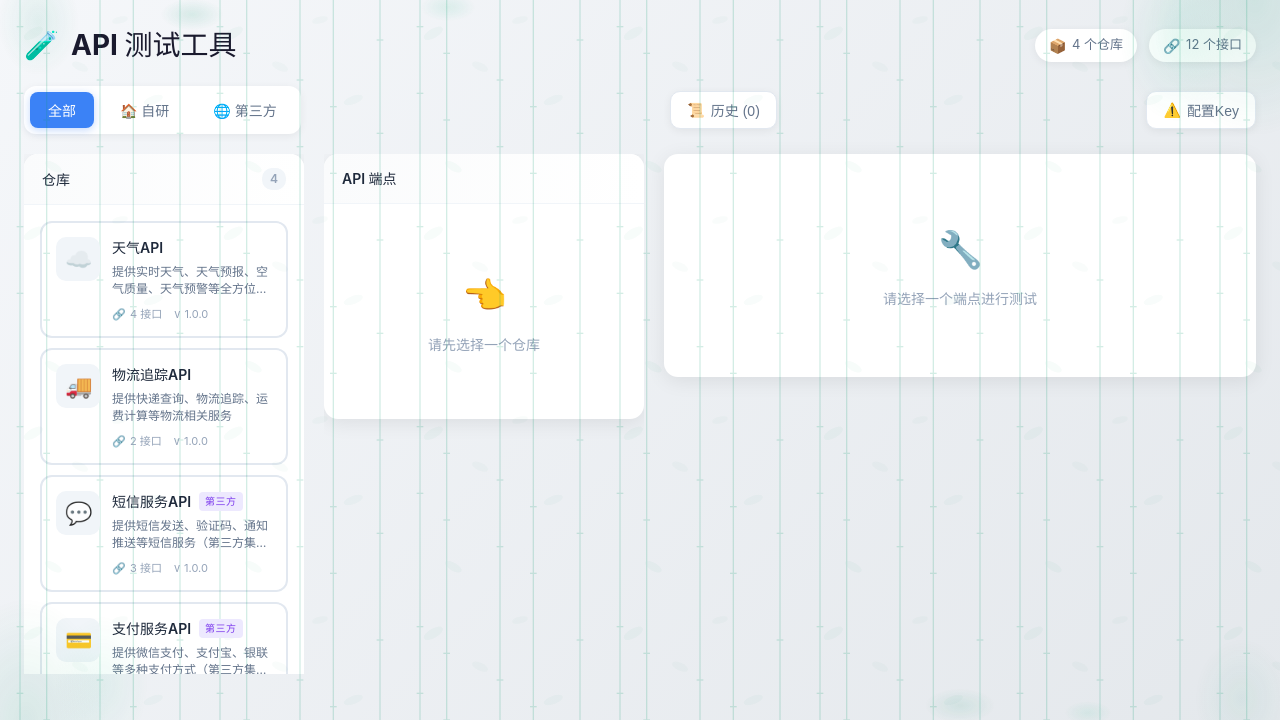
Test: ApiTester 渲染与筛选 › TC-FE-TESTER-002: 分类切换只展示对应来源的仓库
Expected: the heading "天气API" is shown, 112,237 -> 163,258
Click the button "🏠 自研": (145, 110) 102,92 -> 187,128
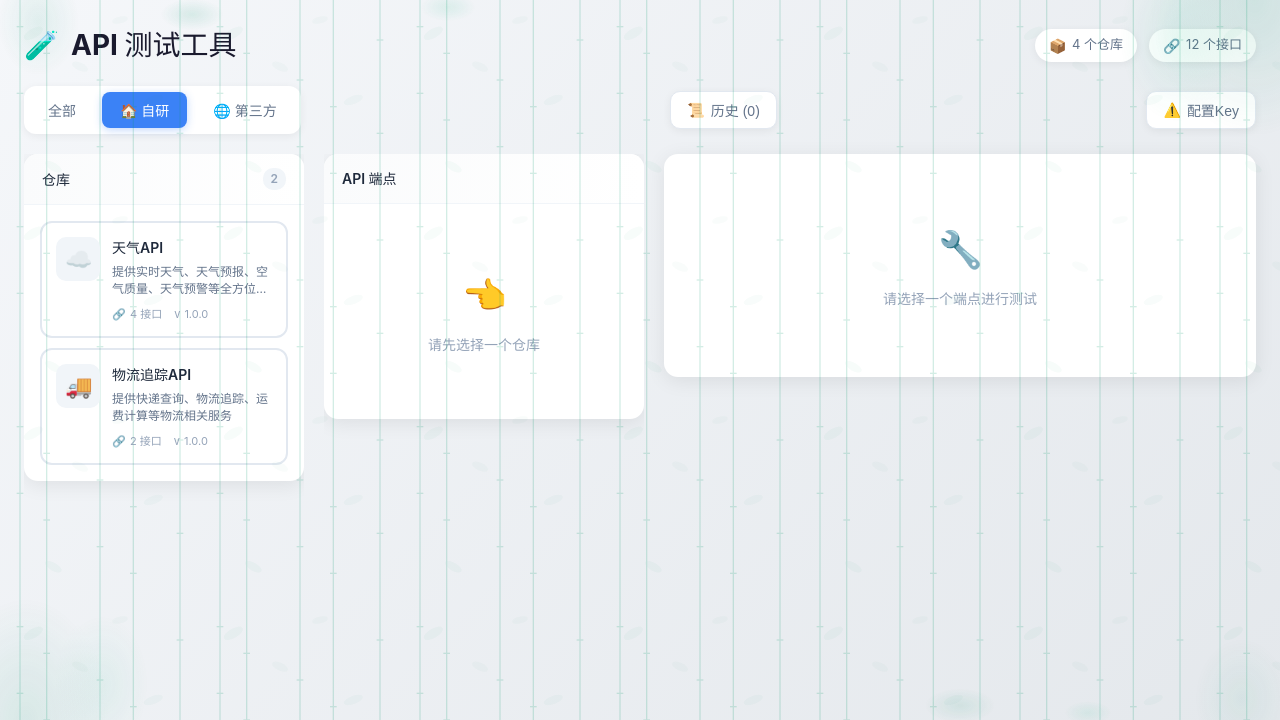
Expected: the heading "天气API" is shown, 112,237 -> 163,258
Expected: the heading "短信服务API" is gone
Note:  切到「第三方」
Click the button "🌐 第三方": (245, 110) 195,92 -> 295,128
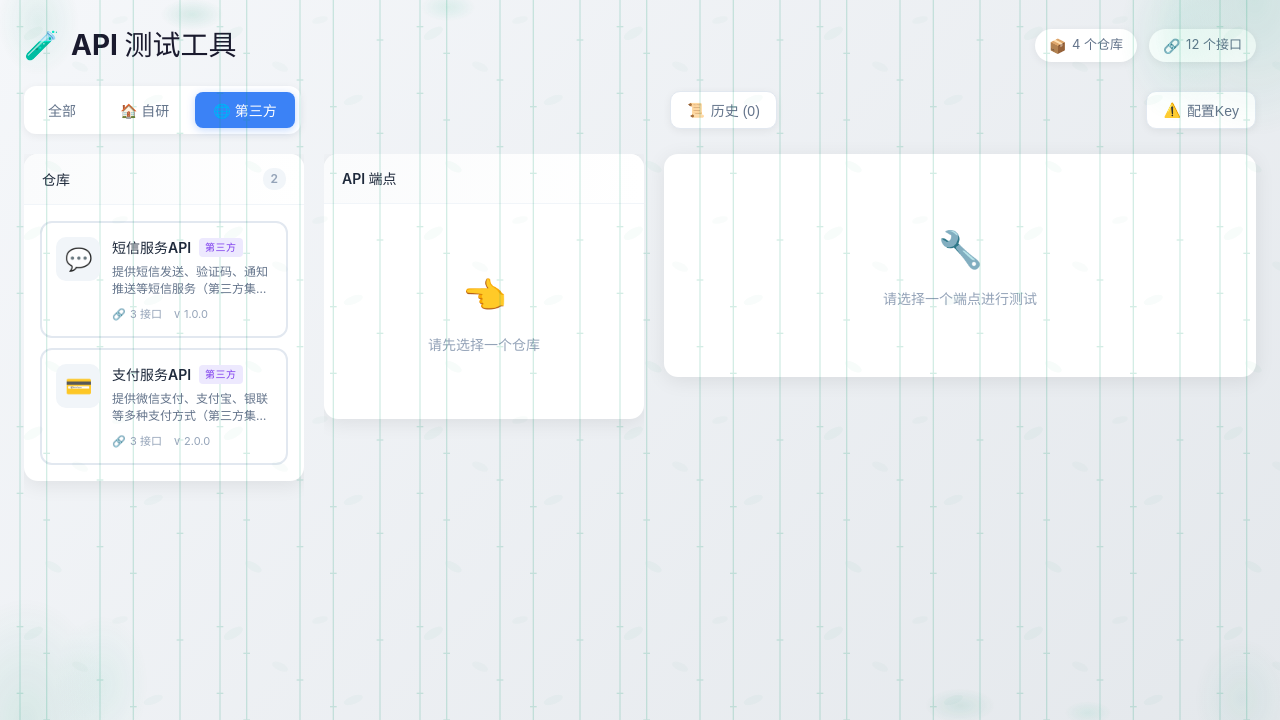
Expected: the heading "短信服务API" is shown, 112,237 -> 191,258
